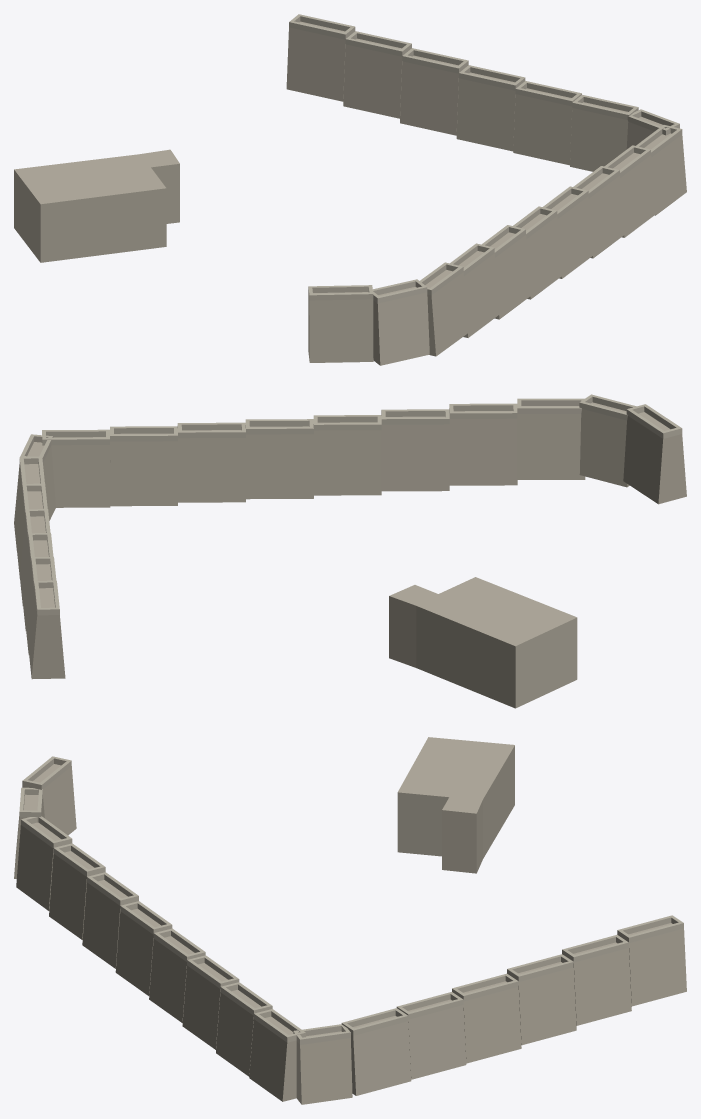
Rendered from bormla_65_30_collision.glb.
3 views of the same model, one above another, from view 1: azimuth 30°, elevation 25°; view 2: azimuth 150°, elevation 25°; view 3: azimuth 270°, elevation 25° (orthographic). The views are drawn at different scales.
Visible parts, largest first — view 1: geometry_0; view 2: geometry_0; view 3: geometry_0.
Part boxes in pixels (x1,y1,x2,y2): geometry_0: [14, 14, 686, 365]; geometry_0: [14, 394, 686, 708]; geometry_0: [14, 737, 686, 1104].
Bounding box in the file's own units: 126 × 20.48 × 124.
